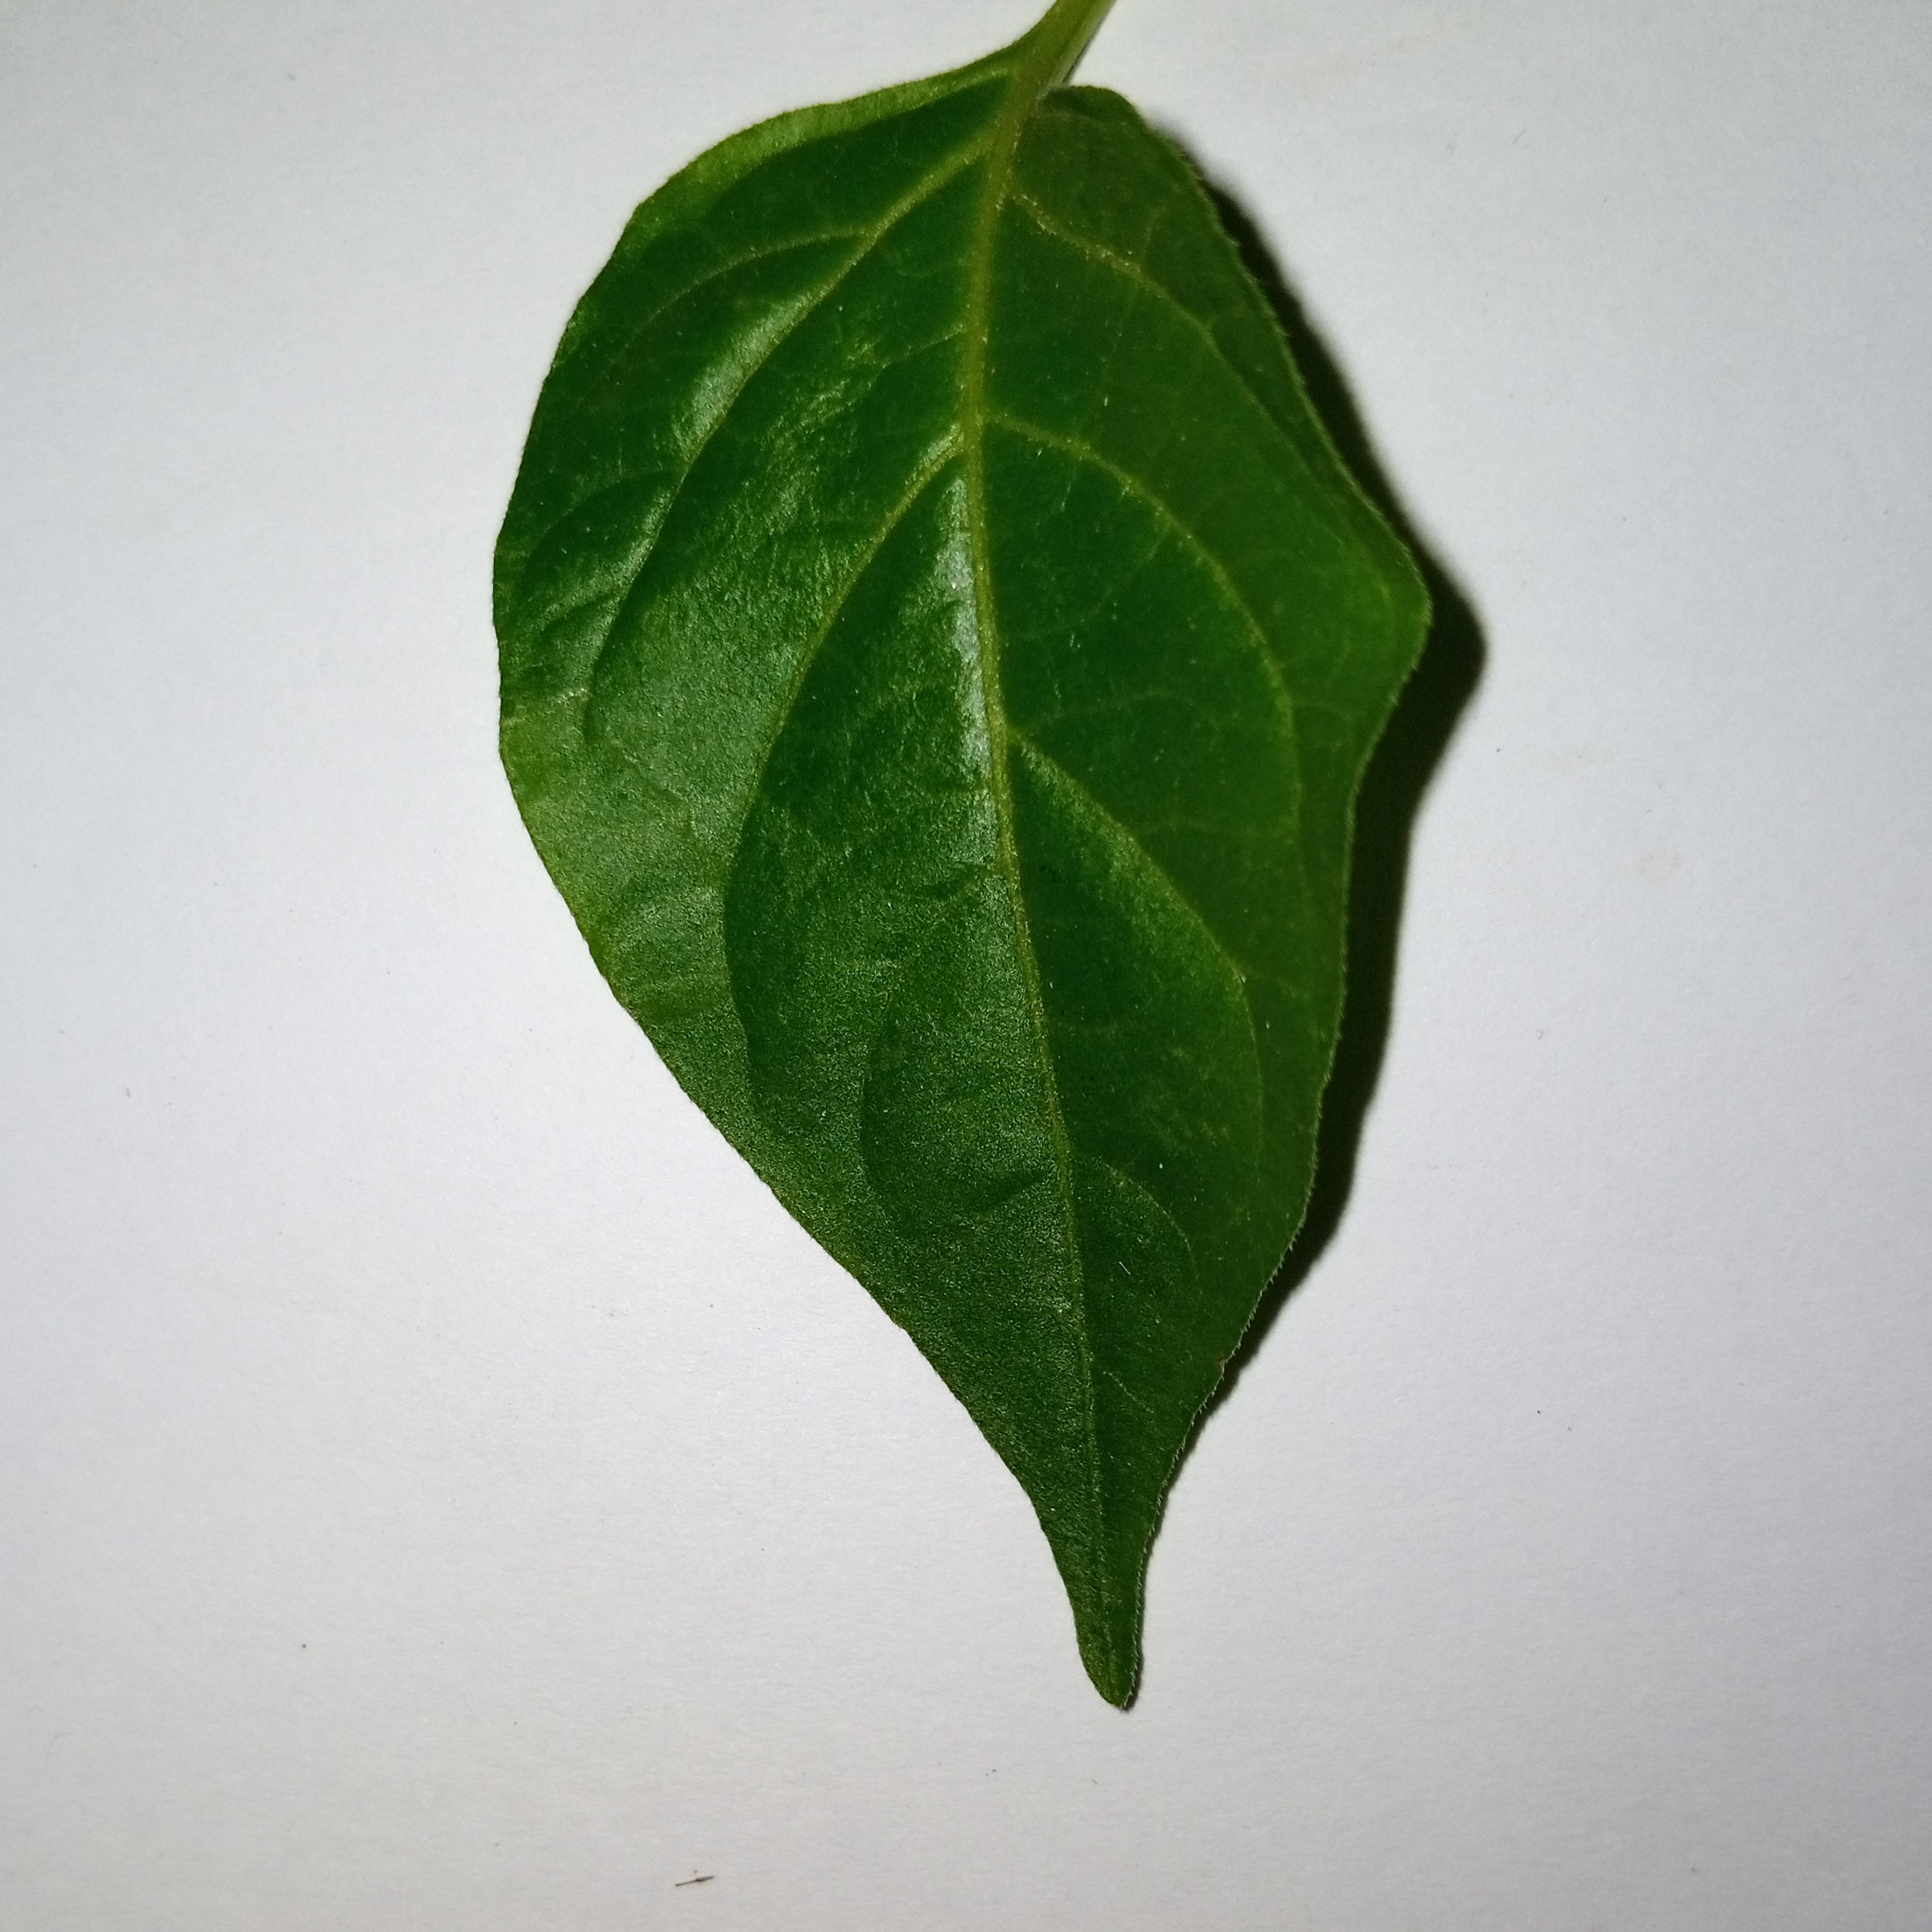Leaf: (361, 37, 1660, 1863)
